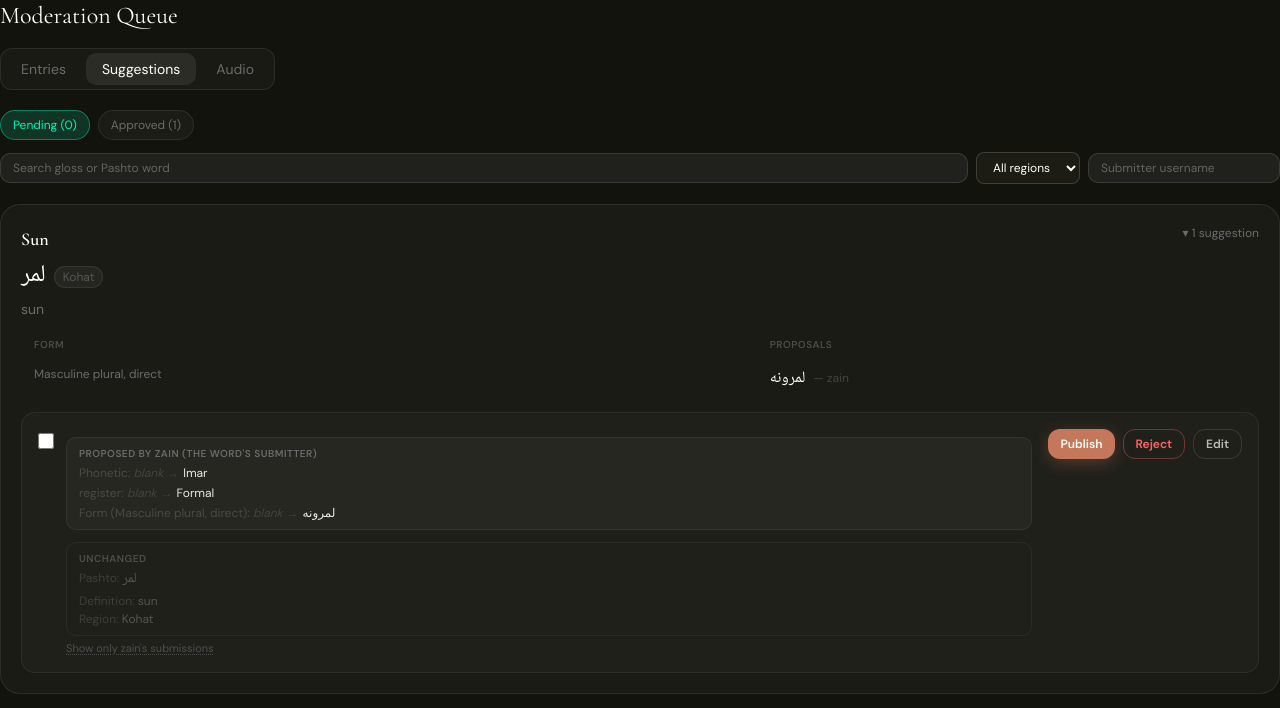
Test: Moderation queue — Suggestions view › admin switches to Approved, publishes, and sees a publish-time conflict
Click the button "Approved (1)" at [146, 125], box [98,110,194,140]
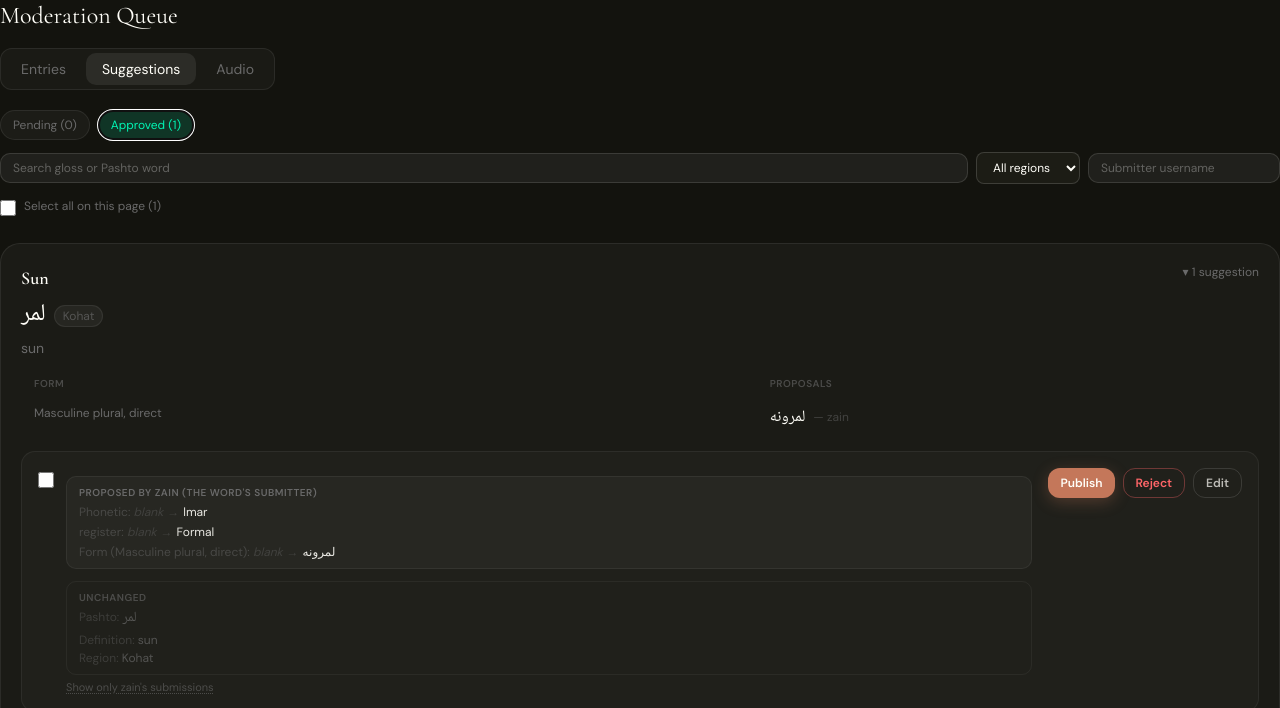
Click the button "Publish" at [1082, 483], box [1048,468,1114,498]
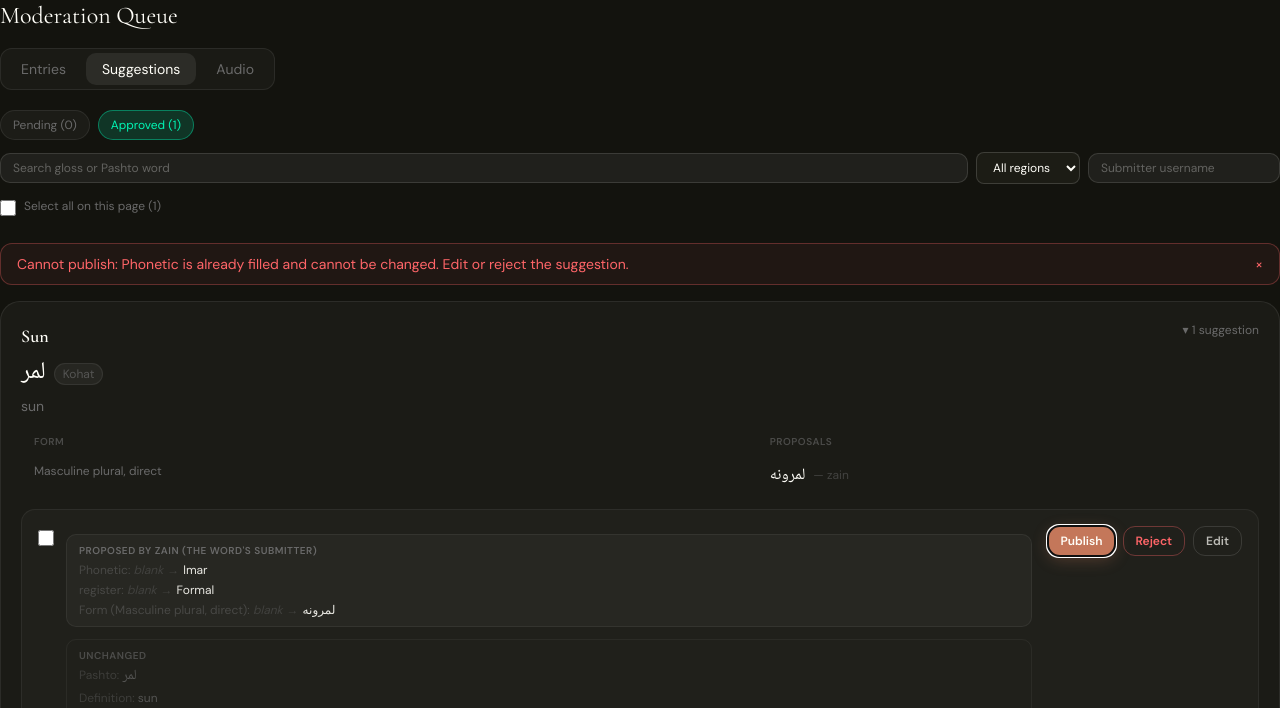
Expected: the button "Reject" is shown, [1122,526,1185,556]
Expected: the message shows "Cannot publish: Phonetic is already filled", [17,255,629,273]
